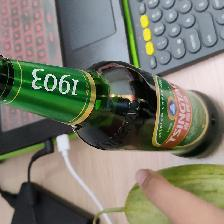gua: (110, 166, 224, 222)
